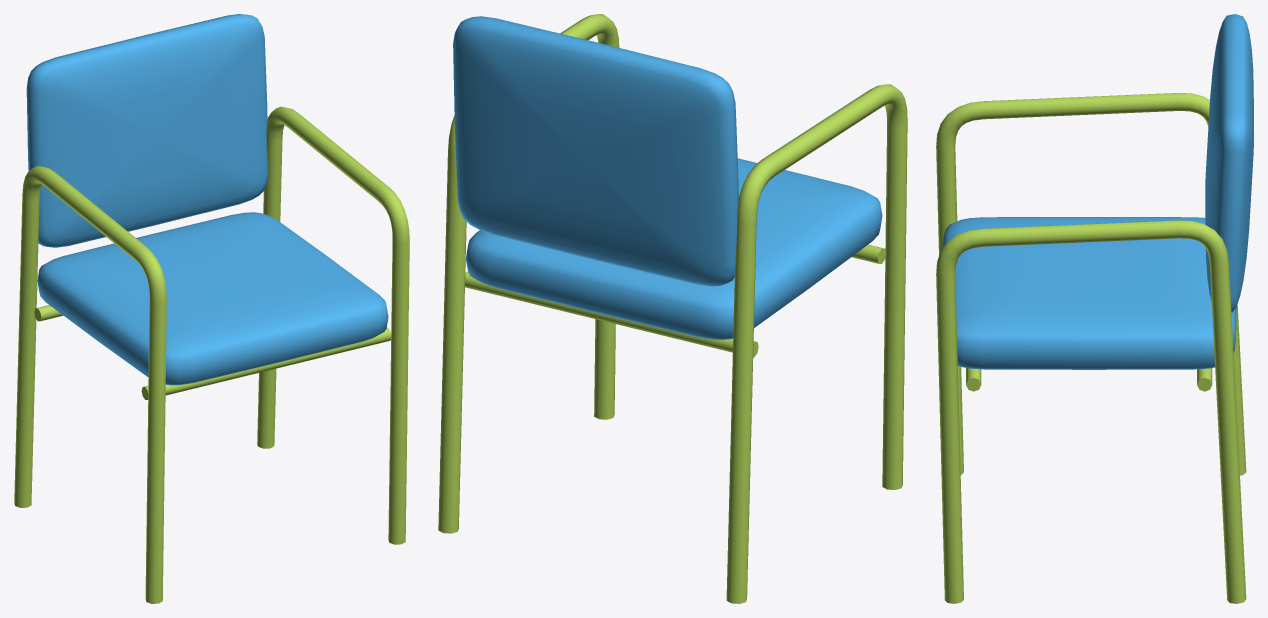
Rendered from cadeira_cafe_tubo_azul.glb.
The picture shows the model from 3 angles, left to right: view 1: azimuth 30°, elevation 25°; view 2: azimuth 150°, elevation 25°; view 3: azimuth 270°, elevation 25°; orthographic projection. The views are drawn at different scales.
Parts seen in each view (by area): view 1: cadeira_cafe_tubo_azul; view 2: cadeira_cafe_tubo_azul; view 3: cadeira_cafe_tubo_azul.
Boxes of the visible parts, <box> form: cadeira_cafe_tubo_azul: <box>14,14,409,603</box>; cadeira_cafe_tubo_azul: <box>438,14,907,603</box>; cadeira_cafe_tubo_azul: <box>936,14,1253,603</box>.
Bounding box in the file's own units: 0.5 × 0.8102 × 0.4952.
1 material, 1 textured.
